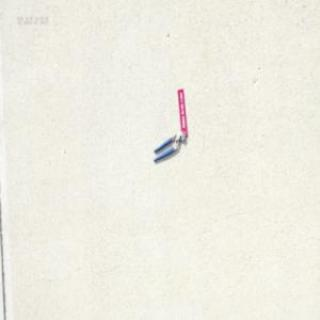LuggageTagtrack_idkeyframe: (176, 86, 187, 136)
Pliertrack_idkeyframe: (152, 129, 184, 162)
